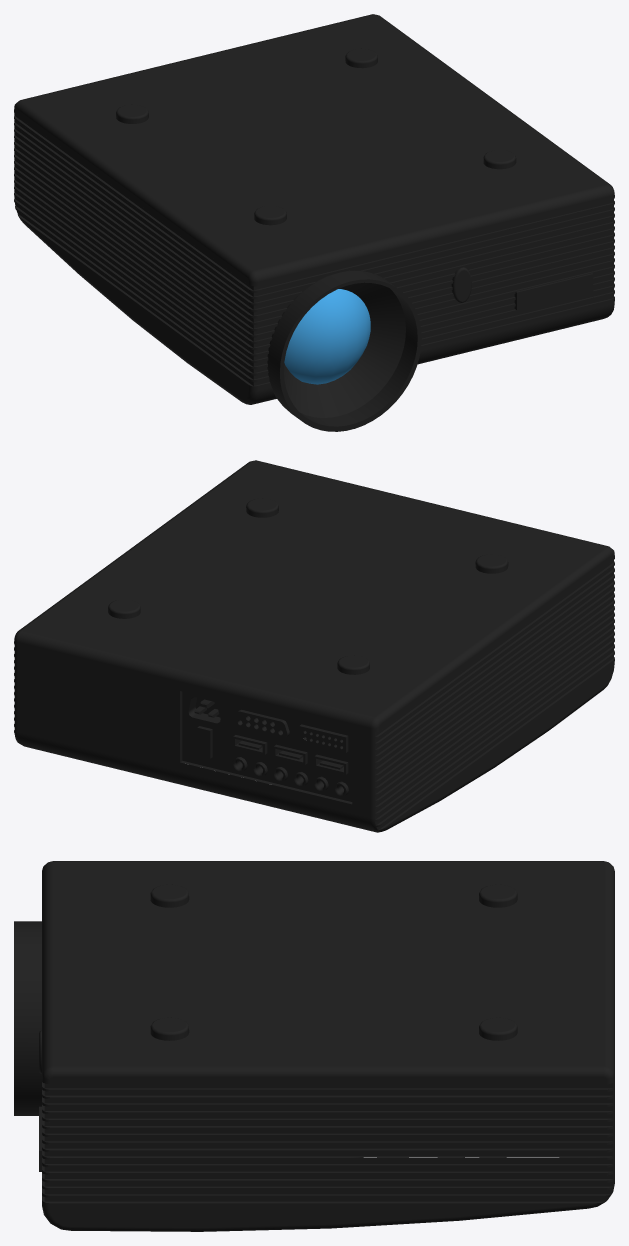
The model's file is projector.glb.
3 renders of one model, top to bottom at view 1: azimuth 30°, elevation 25°; view 2: azimuth 150°, elevation 25°; view 3: azimuth 270°, elevation 25°, orthographic. The views are drawn at different scales.
Parts seen in each view (by area): view 1: Proektor__0___Default_; view 2: Proektor__0___Default_; view 3: Proektor__0___Default_.
Boxes of the visible parts, bbox=[...] form: Proektor__0___Default_: bbox=[14, 14, 614, 431]; Proektor__0___Default_: bbox=[14, 460, 614, 832]; Proektor__0___Default_: bbox=[14, 861, 614, 1231].
Bounding box in the file's own units: 0.576 × 0.2617 × 0.6904.
